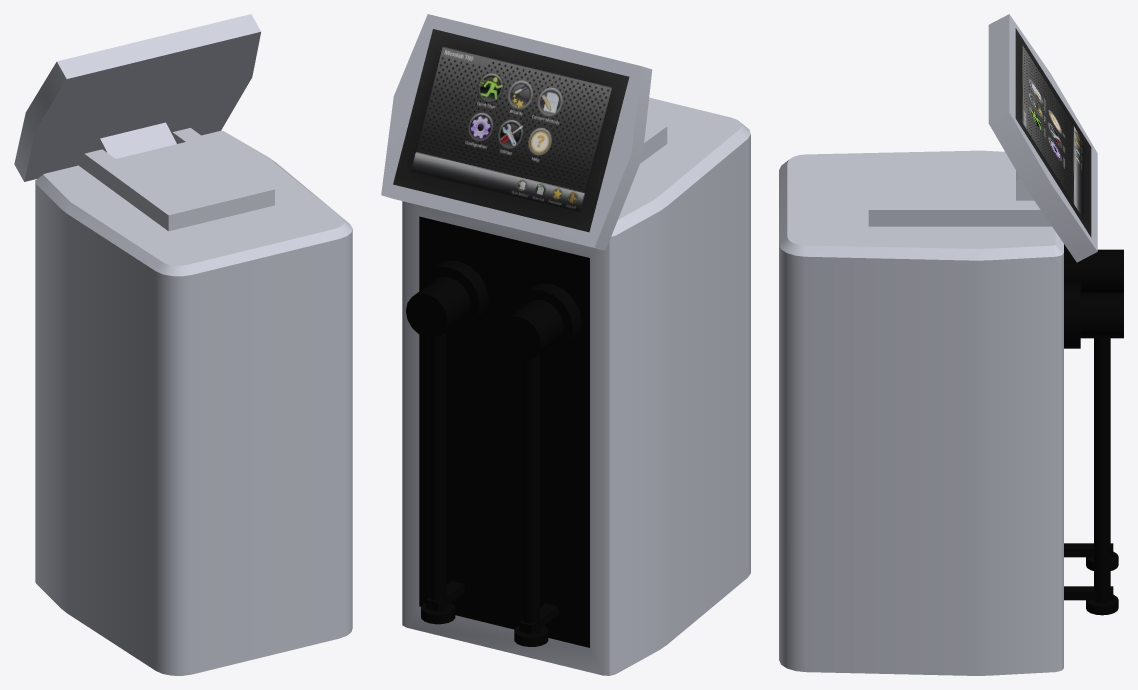
The picture shows the model from 3 angles, left to right: view 1: azimuth 30°, elevation 25°; view 2: azimuth 150°, elevation 25°; view 3: azimuth 270°, elevation 25°; orthographic projection. The views are drawn at different scales.
Parts seen in each view (by area): view 1: 127; view 2: 127; view 3: 127.
Part boxes in pixels (x1,y1,x2,y2): 127: (14, 14, 352, 675); 127: (381, 14, 750, 675); 127: (779, 14, 1123, 675).
Bounding box in the file's own units: 40.54 × 97.42 × 53.77.
4 materials, 1 textured.
